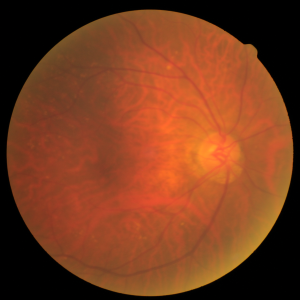cataract: (91, 99, 274, 219)
